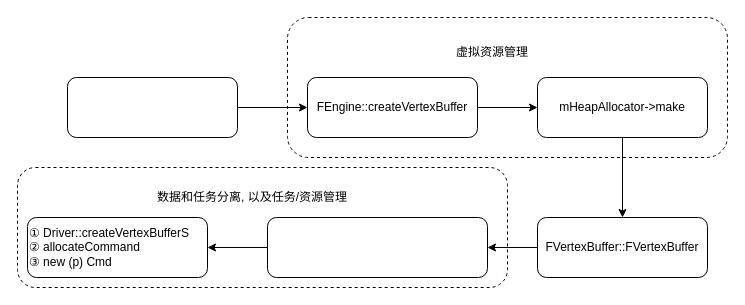
Some shapes in this 745 by 305 pixel diagram are drawn without their labels. Here are the shapes that lost their labels. From the top down, the centre of each, then its label:
At point 152,107: "VertexBuffer::Builder::build".
At point 377,247: "FEngine::DriverApi::createVertexBuffer".
